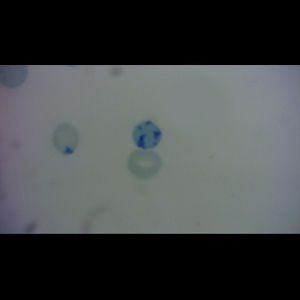aggregate reticulocyte: (130, 119, 163, 150)
erythrocyte: (126, 148, 164, 179), (50, 123, 81, 156)
